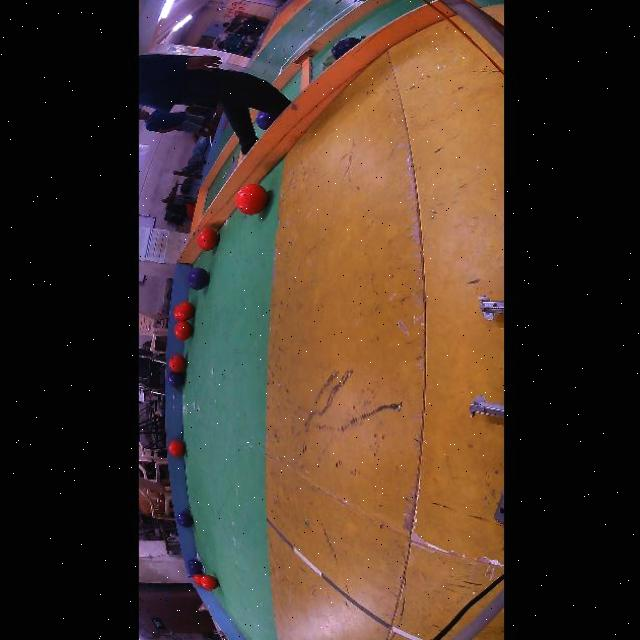P: (185, 267, 208, 290), (166, 372, 183, 388), (175, 513, 191, 528), (185, 558, 200, 571), (188, 568, 200, 577)
R: (233, 184, 266, 215), (195, 229, 217, 251), (172, 321, 190, 341), (175, 302, 193, 321), (167, 355, 184, 373), (198, 575, 217, 590), (167, 440, 183, 457), (191, 573, 201, 586), (171, 311, 180, 321)
